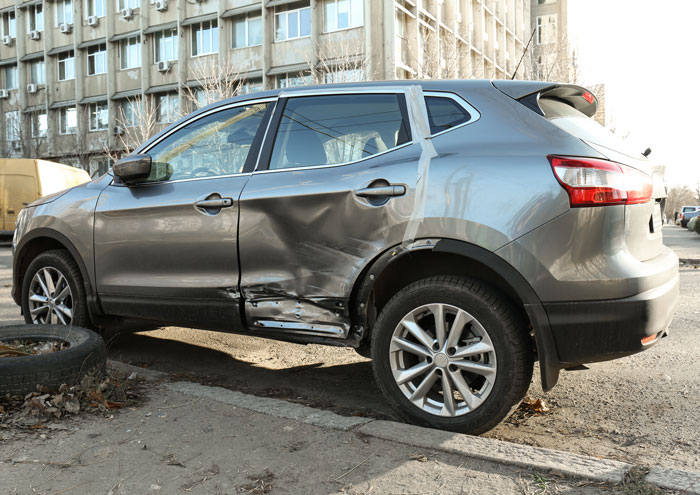car_dent: (229, 207, 391, 341)
